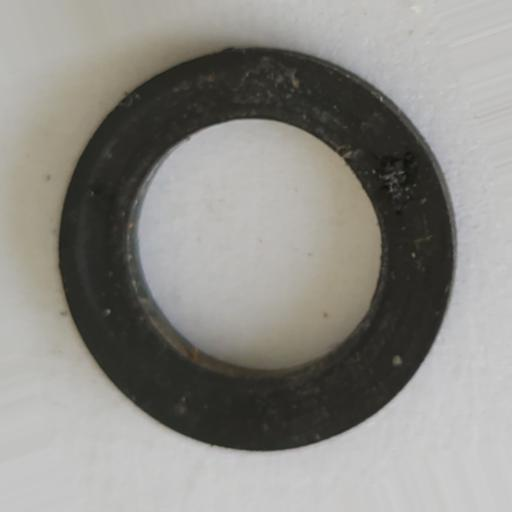defect: (374, 149, 426, 218)
